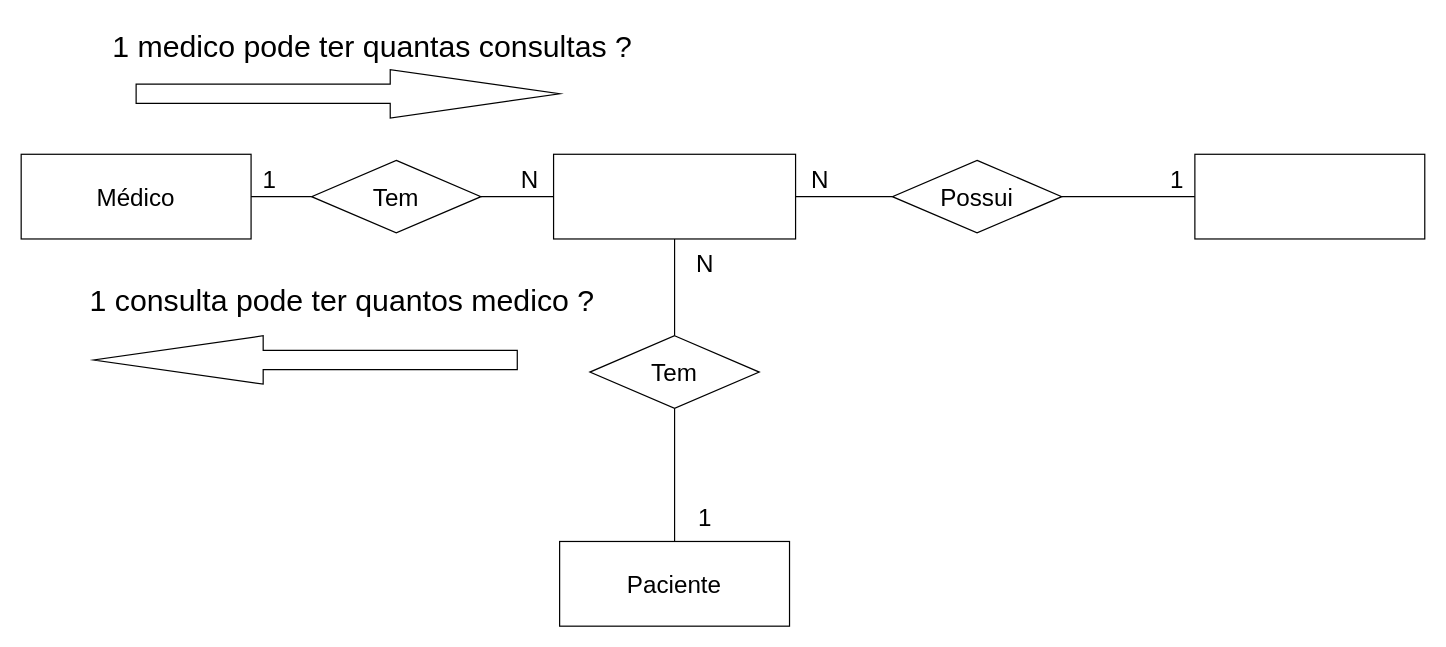
This 1446x647 diagram has some shape labels left out. Each missing label, with the centre of its shape:
"Clínica" goes at pixel 1309 196.
"Consultas" goes at pixel 674 196.
